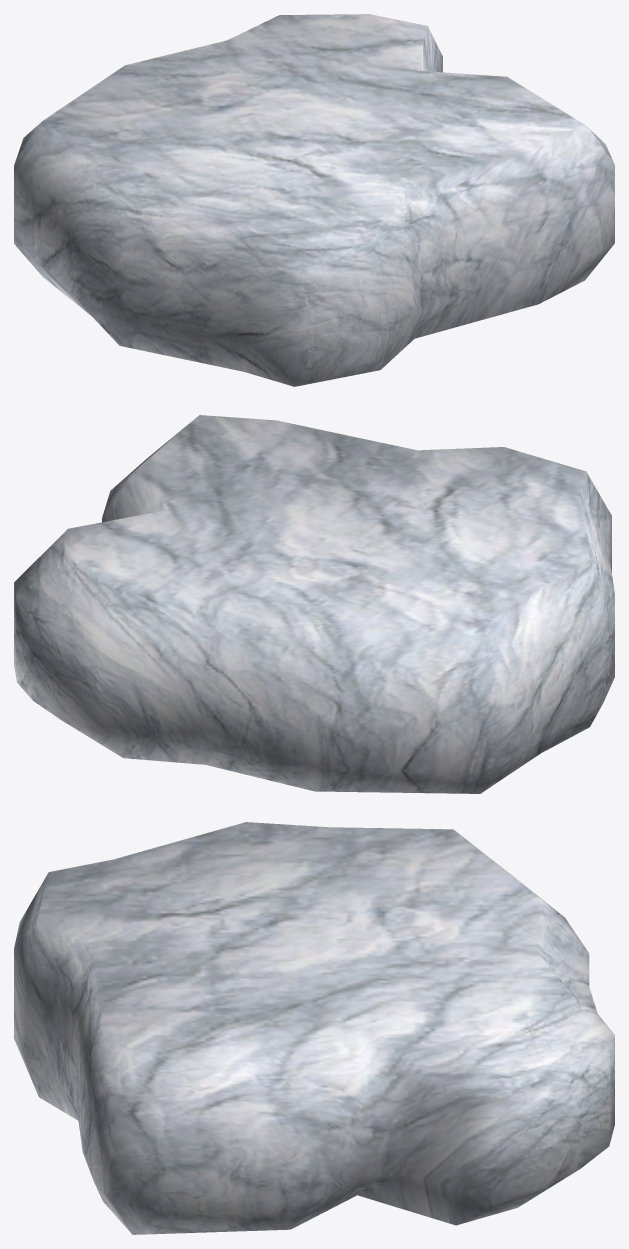
Rendered from iceberg_b.dae.
3 views of the same model, one above another, from view 1: azimuth 30°, elevation 25°; view 2: azimuth 150°, elevation 25°; view 3: azimuth 270°, elevation 25° (orthographic). The views are drawn at different scales.
Parts seen in each view (by area): view 1: tree_oak_a; view 2: tree_oak_a; view 3: tree_oak_a.
Boxes of the visible parts, x1=… form: tree_oak_a: x1=14, y1=14, x2=614, y2=386; tree_oak_a: x1=14, y1=415, x2=614, y2=793; tree_oak_a: x1=14, y1=822, x2=614, y2=1234.
Size of the model in its own units: 14.43 by 13.68 by 4.5.
